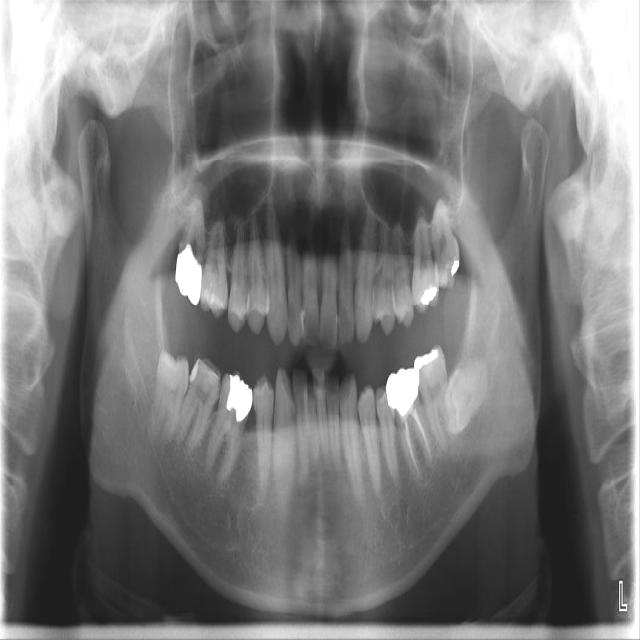Crown: (386, 369, 420, 423), (175, 244, 203, 306)
Filling: (226, 375, 253, 422), (414, 349, 438, 373), (420, 287, 437, 306), (190, 360, 198, 383), (451, 260, 459, 276)
Root Canal Treatment: (404, 412, 422, 479), (414, 409, 434, 461)
impacted tooth: (143, 353, 188, 448), (448, 357, 490, 434)
